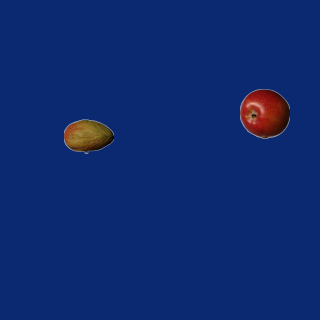Apple Braeburn: (239, 88, 289, 138)
Papaya: (63, 111, 113, 161)
